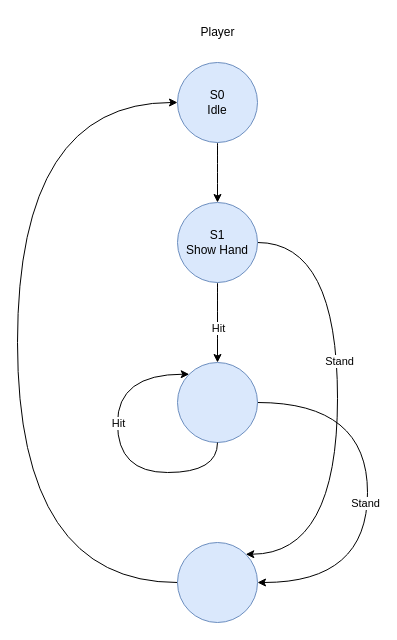
Image size: 397x640. Some labels were removed from this diagram. Here are the shapes that lost their labels. From the top down, the centre of each, then its label:
At point (217, 402): "S2 Show Hand w/new Card".
At point (217, 582): "S3 Win/lose".
